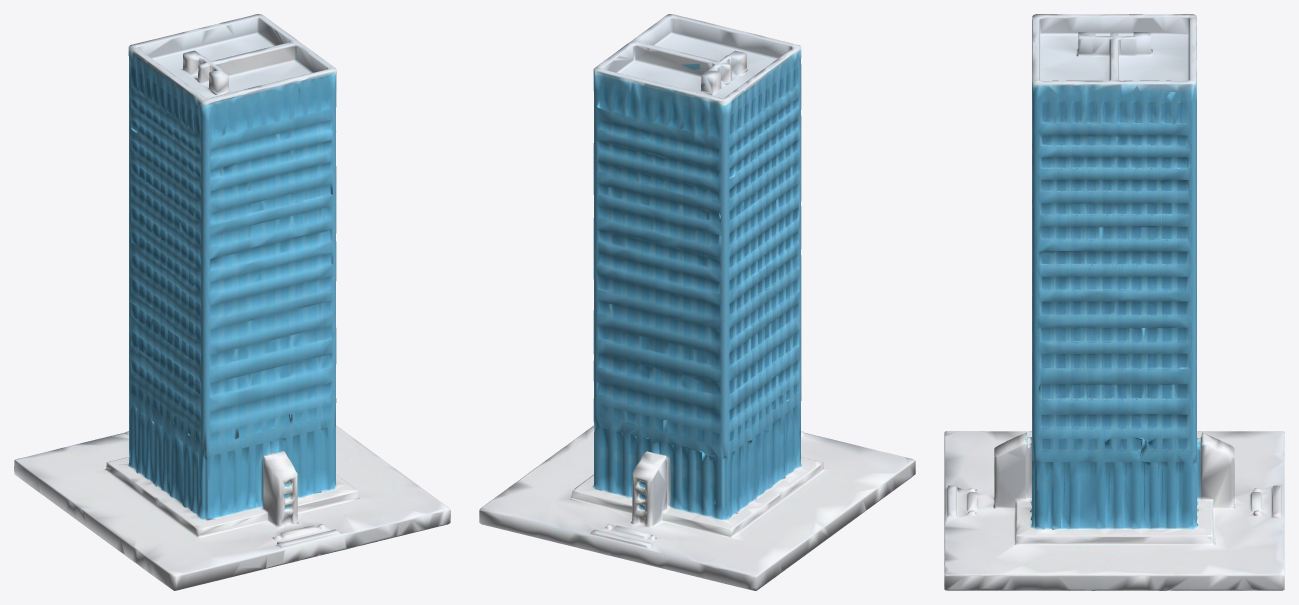
Rendered from townhall.glb.
3 views of the same model, side by side, from view 1: azimuth 30°, elevation 25°; view 2: azimuth 150°, elevation 25°; view 3: azimuth 270°, elevation 25° (orthographic). The views are drawn at different scales.
Bounding box in the file's own units: 1.26 × 1.92 × 1.26.
Materials: 1 (1 with a texture image).
